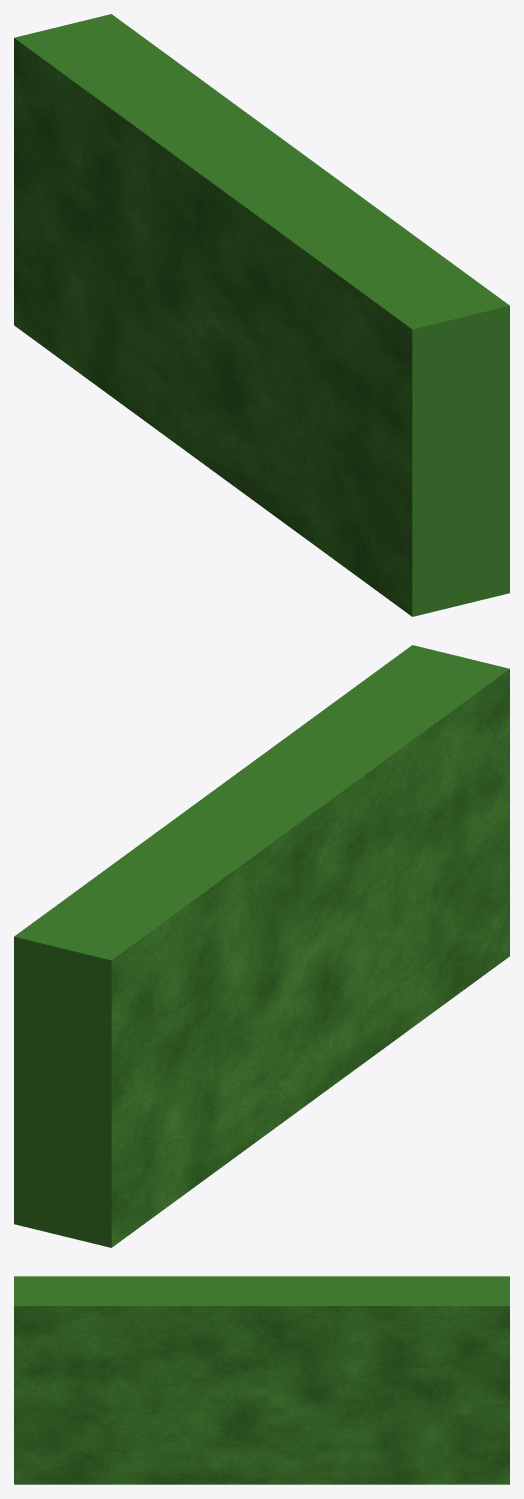
Rendered from grass_wall.glb.
3 renders of one model, top to bottom at view 1: azimuth 30°, elevation 25°; view 2: azimuth 150°, elevation 25°; view 3: azimuth 270°, elevation 25°, orthographic. The views are drawn at different scales.
Visible parts, largest first — view 1: grass_wall; view 2: grass_wall; view 3: grass_wall.
Boxes of the visible parts, bbox=[...] form: grass_wall: bbox=[14, 14, 509, 616]; grass_wall: bbox=[14, 645, 509, 1247]; grass_wall: bbox=[14, 1276, 509, 1484].
Bounding box in the file's own units: 4.1 × 11.55 × 29.02.
1 material, 1 textured.
